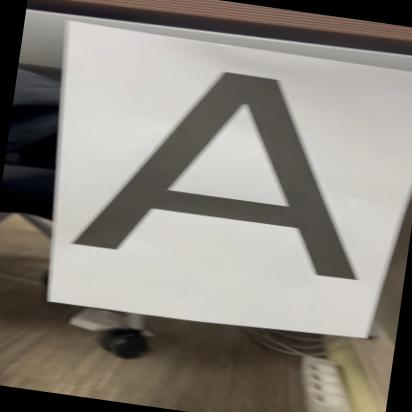seat: (57, 42, 402, 304)
